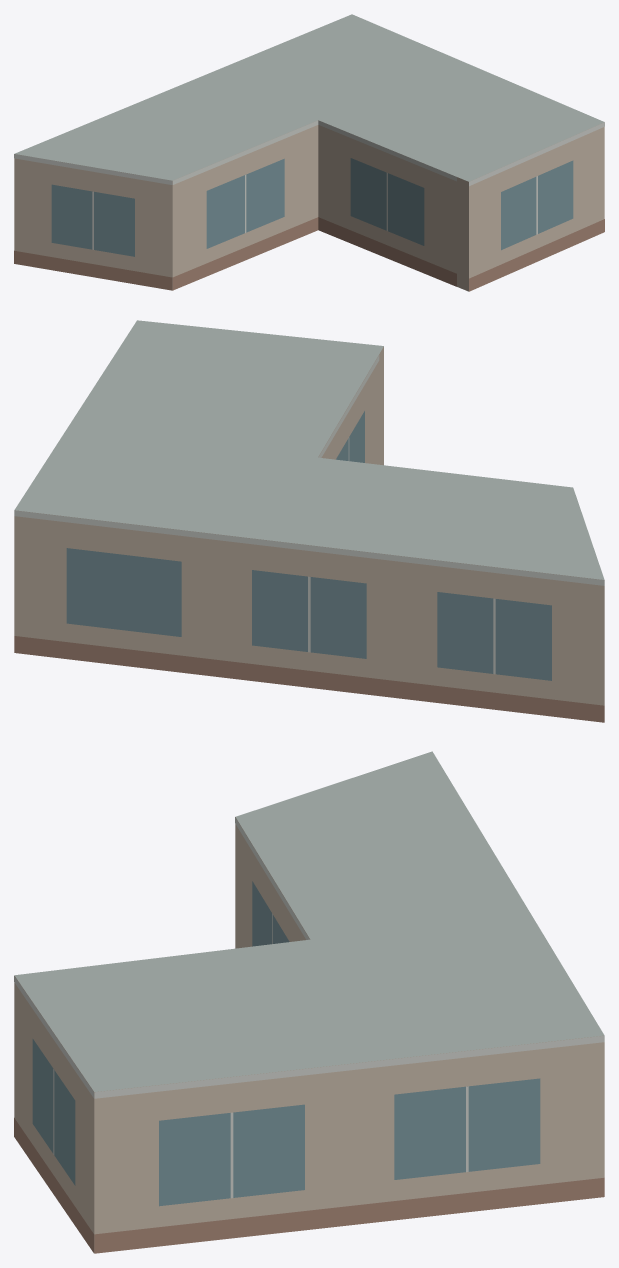
Rendered from survey-upis-32694387.glb.
3 renders of one model, top to bottom at view 1: azimuth 30°, elevation 25°; view 2: azimuth 150°, elevation 25°; view 3: azimuth 270°, elevation 25°, orthographic. The views are drawn at different scales.
Visible parts, largest first — view 1: survey-upis-32694387.tmp; view 2: survey-upis-32694387.tmp; view 3: survey-upis-32694387.tmp.
Part boxes in pixels (left/top/right/bottom): survey-upis-32694387.tmp: left=14, top=14, right=604, bottom=291; survey-upis-32694387.tmp: left=14, top=320, right=604, bottom=722; survey-upis-32694387.tmp: left=14, top=751, right=604, bottom=1253.
Bounding box in the file's own units: 13.82 × 3.05 × 10.12.
